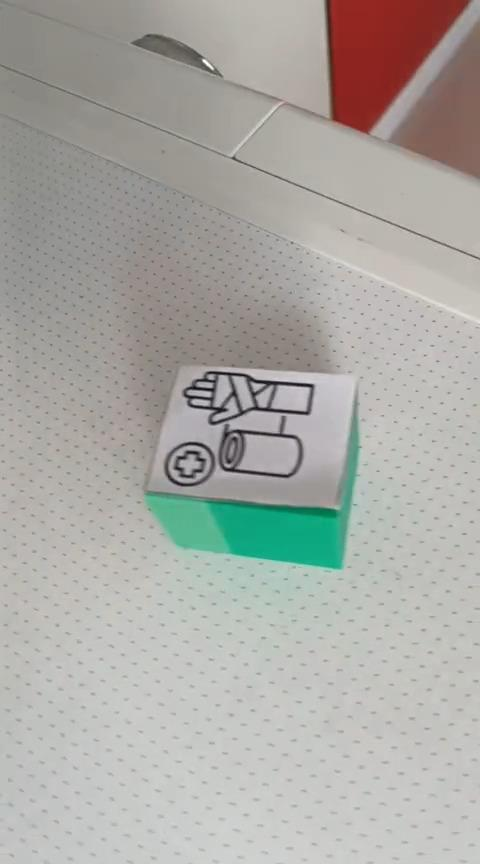Bandages: (143, 363, 358, 568)
